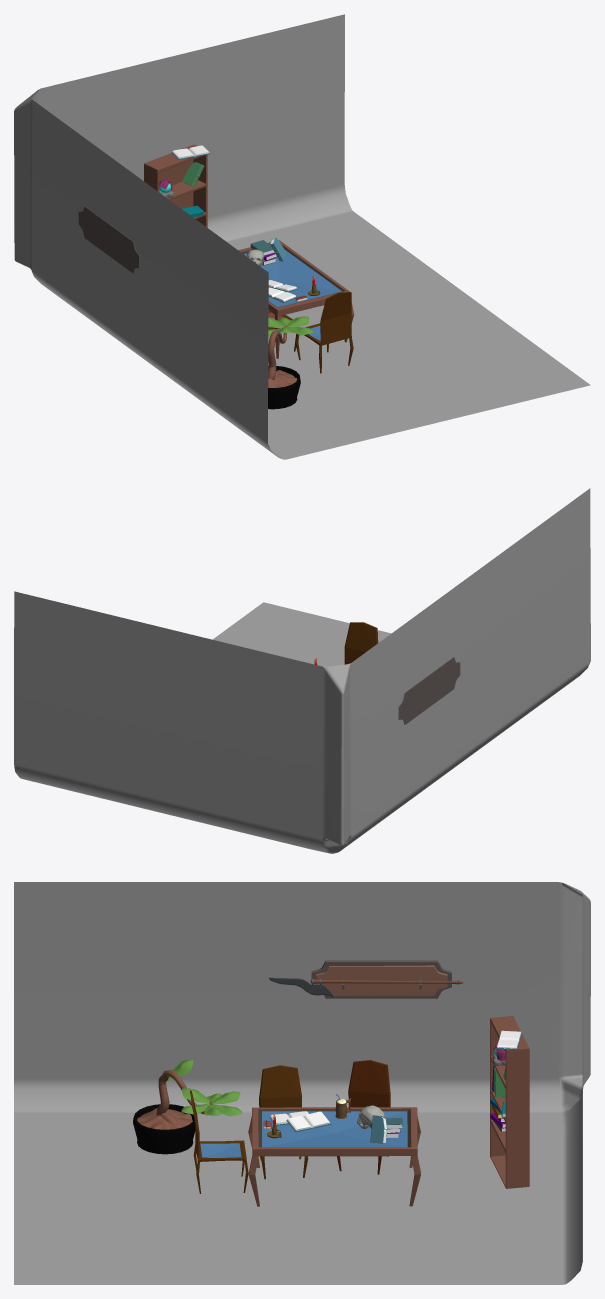
File: mainRoom1FBXForSketchFab_1.fbx
3 renders of one model, top to bottom at view 1: azimuth 30°, elevation 25°; view 2: azimuth 150°, elevation 25°; view 3: azimuth 270°, elevation 25°, orthographic. The views are drawn at different scales.
Visible parts, largest first — view 1: room_panel, table1:table, bookshelf1:bookshelf, tree_whole, chair4:chair, spear_wall_mount1:spear_plaque_full; view 2: room_panel, spear_wall_mount1:spear_plaque_full, chair4:chair; view 3: room_panel, table1:table, bookshelf1:bookshelf, spear_wall_mount1:spear_plaque_full, tree_whole, chair:chair, chair3:chair, chair4:chair, Spear:spear_full, Book_normal_Open1:book_open_1.
Boxes of the visible parts, bbox=[...] form: room_panel: bbox=[14, 14, 590, 459]; table1:table: bbox=[238, 240, 354, 358]; bookshelf1:bookshelf: bbox=[144, 144, 207, 227]; tree_whole: bbox=[268, 316, 313, 409]; chair4:chair: bbox=[295, 292, 353, 373]; spear_wall_mount1:spear_plaque_full: bbox=[78, 206, 139, 273]; room_panel: bbox=[14, 488, 590, 853]; spear_wall_mount1:spear_plaque_full: bbox=[398, 657, 460, 724]; chair4:chair: bbox=[344, 622, 378, 664]; room_panel: bbox=[14, 882, 590, 1284]; table1:table: bbox=[248, 1107, 420, 1206]; bookshelf1:bookshelf: bbox=[490, 1016, 529, 1188]; spear_wall_mount1:spear_plaque_full: bbox=[311, 960, 451, 998]; tree_whole: bbox=[133, 1059, 242, 1154]; chair:chair: bbox=[337, 1060, 390, 1174]; chair3:chair: bbox=[259, 1065, 308, 1179]; chair4:chair: bbox=[190, 1090, 248, 1193]; Spear:spear_full: bbox=[269, 977, 463, 998]; Book_normal_Open1:book_open_1: bbox=[286, 1111, 330, 1132].
Size of the model in its own units: 4.81 by 2.72 by 6.34.
